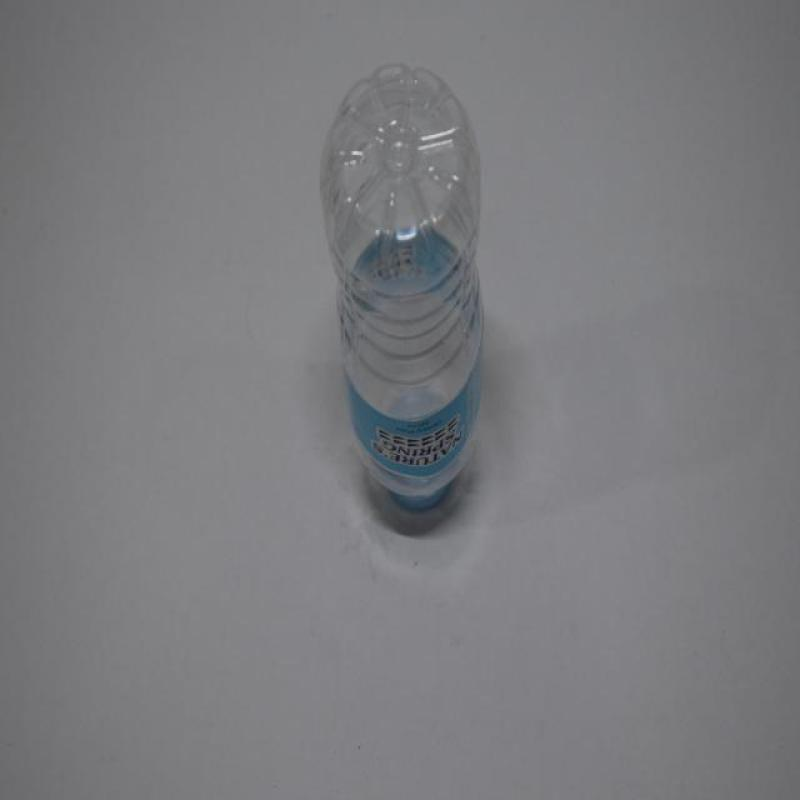botella: (319, 67, 487, 519)
